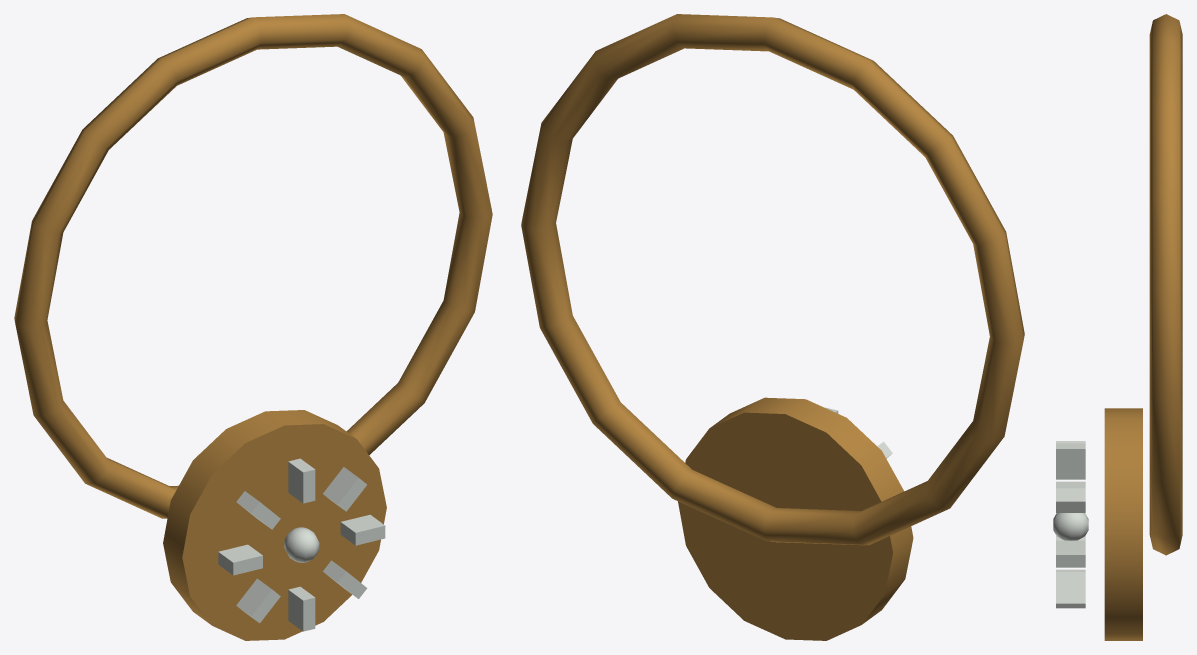
File: holy-amulet.glb
The picture shows the model from 3 angles, left to right: view 1: azimuth 30°, elevation 25°; view 2: azimuth 150°, elevation 25°; view 3: azimuth 270°, elevation 25°; orthographic projection. The views are drawn at different scales.
Visible parts, largest first — view 1: amulet-chain, amulet-medallion, amulet-sun-ray (×8), amulet-sun-center; view 2: amulet-chain, amulet-medallion; view 3: amulet-chain, amulet-medallion, amulet-sun-ray (×5), amulet-sun-center.
Boxes of the visible parts, <box> form: amulet-chain: <box>14,14,492,518</box>; amulet-medallion: <box>163,410,386,640</box>; amulet-sun-ray (×8): <box>218,458,385,631</box>; amulet-sun-center: <box>284,527,319,562</box>; amulet-chain: <box>521,14,1024,545</box>; amulet-medallion: <box>678,397,913,640</box>; amulet-chain: <box>1149,14,1182,555</box>; amulet-medallion: <box>1104,408,1142,640</box>; amulet-sun-ray (×5): <box>1056,443,1085,608</box>; amulet-sun-center: <box>1053,513,1088,540</box>.
Size of the model in its own units: 0.256 by 0.308 by 0.0611.
